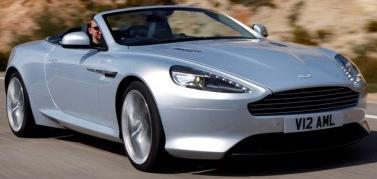front_view: (161, 52, 373, 163)
headlight: (166, 62, 253, 96)
